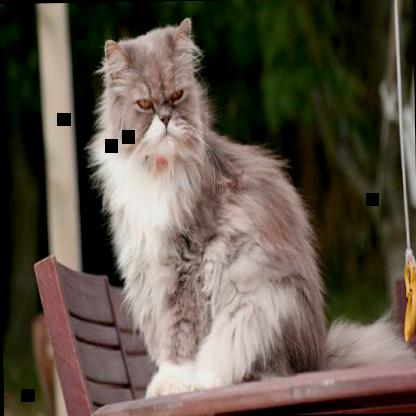cat: (97, 12, 415, 397)
